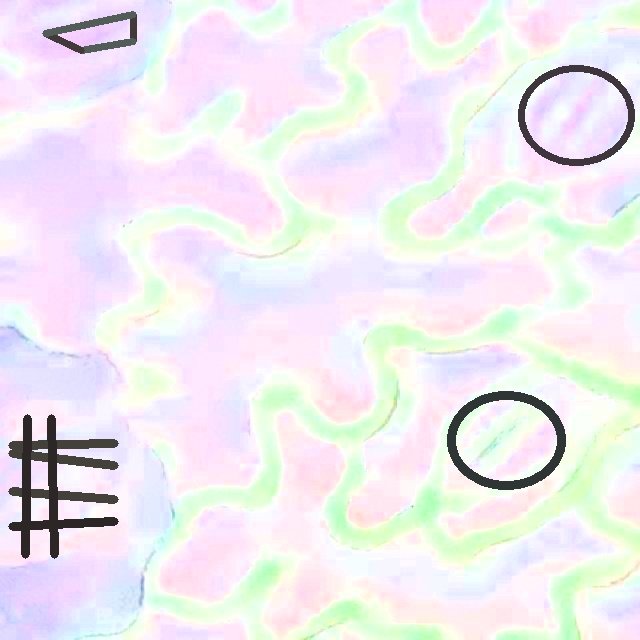open: (9, 415, 118, 557), (446, 389, 566, 490), (518, 65, 634, 165), (42, 11, 136, 53)
